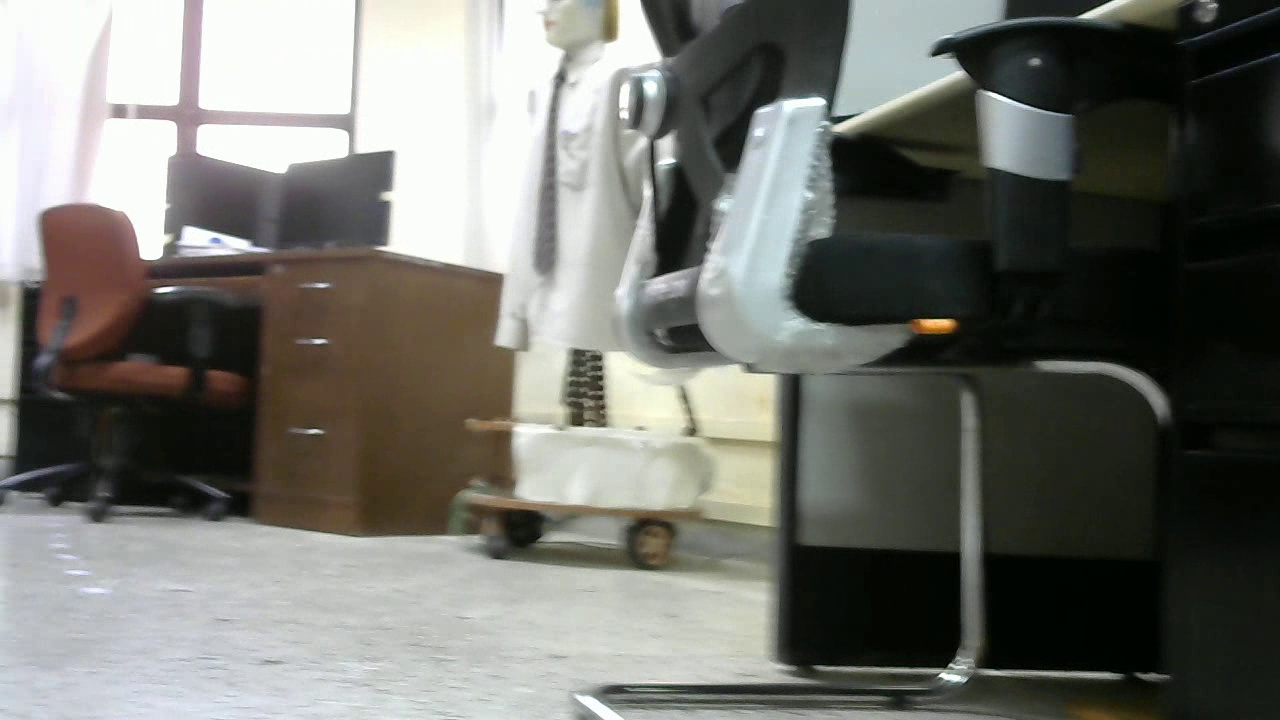chair: (572, 2, 1172, 720), (2, 205, 250, 519)
